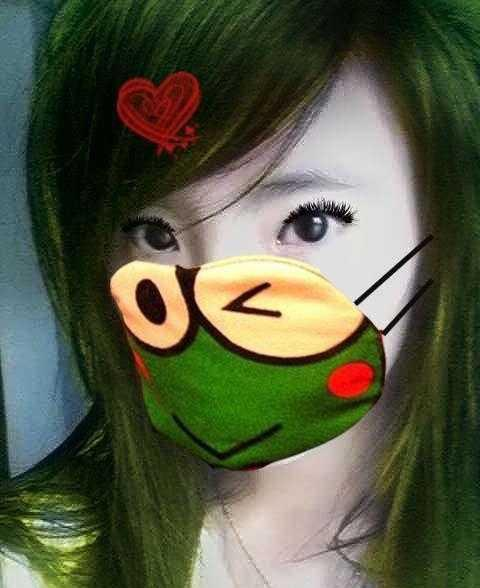OK: (81, 140, 401, 460)
